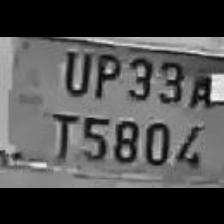0: (140, 114, 170, 166)
3: (121, 46, 153, 102), (154, 50, 184, 104)
4: (171, 116, 205, 170)
5: (76, 110, 108, 166)
8: (109, 112, 138, 166)
A: (186, 48, 218, 112)
P: (90, 45, 120, 101)
T: (45, 105, 77, 165)
U: (57, 44, 91, 96)
